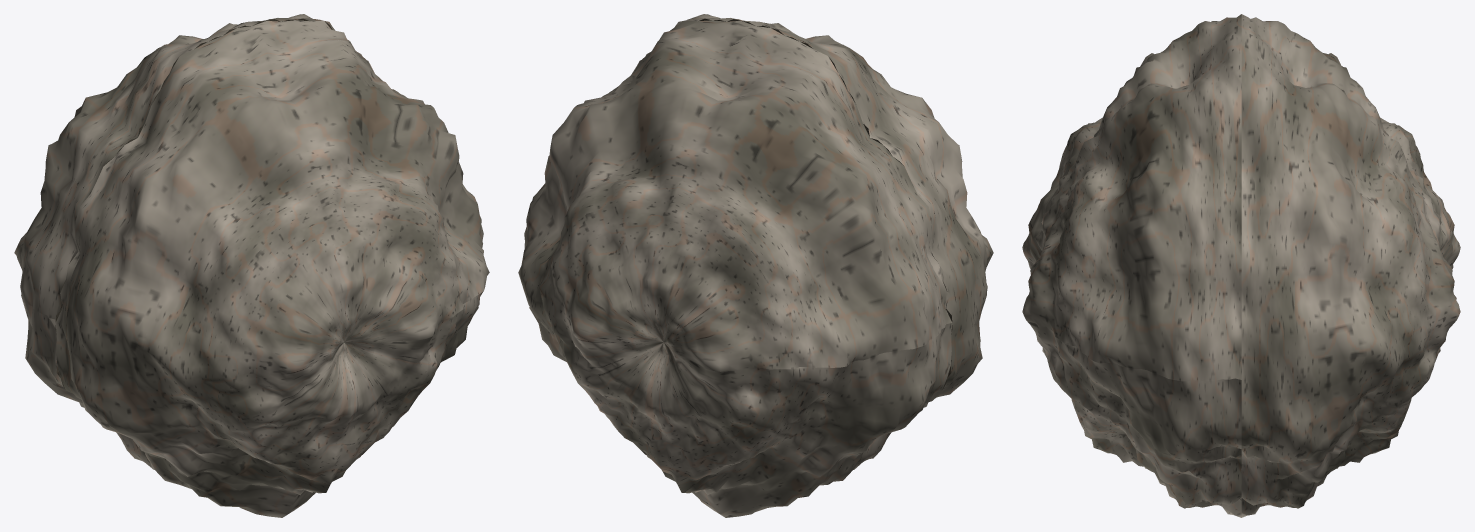
File: deep-amethyst-study-v2.glb
3 views of the same model, side by side, from view 1: azimuth 30°, elevation 25°; view 2: azimuth 150°, elevation 25°; view 3: azimuth 270°, elevation 25° (orthographic).
Visible parts, largest first — view 1: Closed_front, Closed_back; view 2: Closed_back, Closed_front; view 3: Closed_front, Closed_back.
Boxes of the visible parts, x1,y1,x2,y2 form: Closed_front: (55,20,489,517); Closed_back: (14,14,383,469); Closed_back: (518,20,952,517); Closed_front: (613,14,993,469); Closed_front: (1022,14,1241,517); Closed_back: (1241,14,1460,517).
Bounding box in the file's own units: 3.02 × 3.48 × 2.86.
8 materials, 3 textured.
